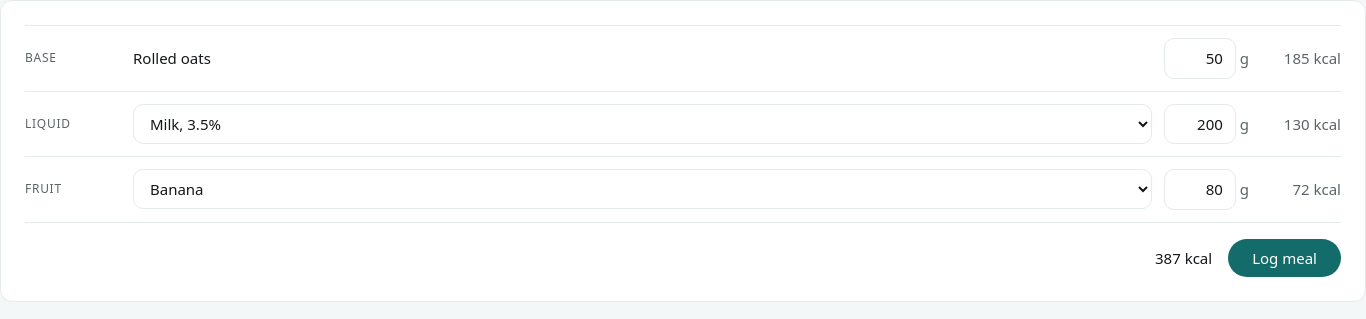
Test: MealBuilder › blocks the log and names the slot when an amount is not a number
Step 1. Replace the text in the field named "Grams of Liquid" with "200g" → (1200,124), box [1164, 104, 1236, 144]
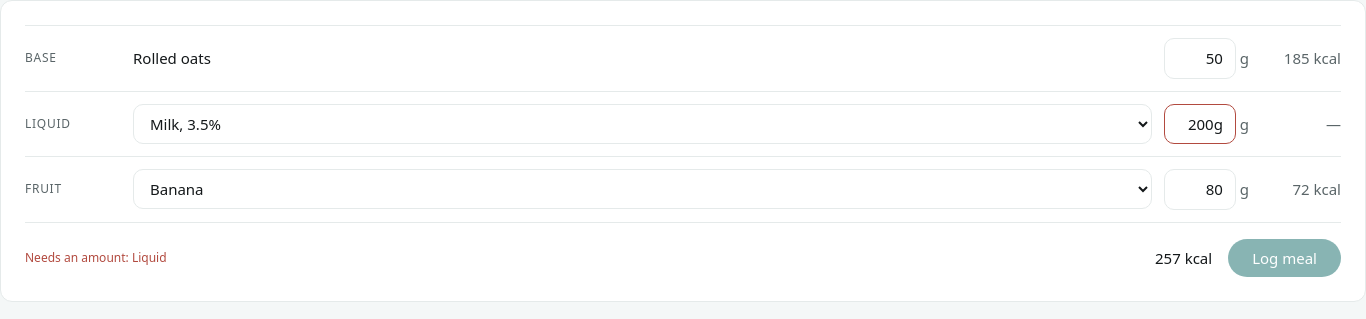
Now the button "Log meal" is disabled, box [1228, 238, 1341, 277]
Now the text "Needs an amount: Liquid" is shown, box [25, 249, 166, 267]
